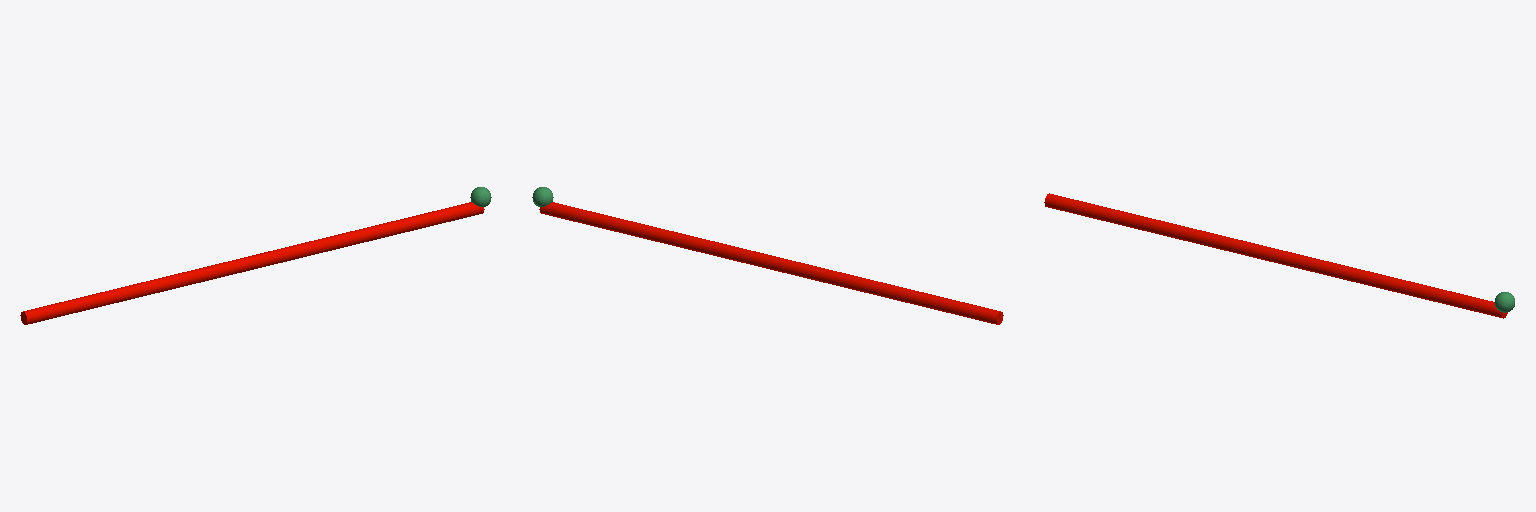
robot.urdf — Pendulum:
<?xml version="1.0"?>

<robot name="Pendulum">
  <material name="green">
 	  <color rgba=".3 .6 .4 1" />
  </material>
  <material name="red">
    <color rgba=".9 .1 0 1" />
  </material>
  <material name="blue">
    <color rgba="0 0 1 1" />
  </material>

  <link name="world" />
  <link name="base_part2">
    <inertial>
      <origin xyz="0 0 .015" rpy="0 0 0"/>
      <mass value="1"/>
      <inertia ixx="0" ixy="0" ixz="0" iyy="0" iyz="0" izz="0" />
    </inertial>
    <visual>
      <origin xyz="0 0 .015" />
      <geometry>
        <sphere radius=".015" />
      </geometry> 
      <material name="green" />
    </visual>
  </link>
  <joint name="base_weld" type="fixed">
    <parent link="world" />
    <child link="base_part2" />
    <origin xyz="0 0 0" />
  </joint>
  <link name="arm">
    <inertial> 
      <origin xyz="-.5 0 0" rpy="0 0 0" />
      <mass value="0.5" />
      <inertia ixx="0" ixy="0" ixz="0" iyy="0" iyz="0" izz="0"/> 
    </inertial>
    <visual>
      <origin xyz="-.375 0 0" rpy="0 1.5708 0" />
      <geometry>
         <cylinder length=".75" radius=".01" />
      </geometry>
      <material name="red" />
    </visual> 
  </link>
  <joint name="theta" type="continuous">
    <parent link="base_part2"/>
    <child link="arm" />
    <axis xyz="0 0 1" />
    <dynamics damping="0.1" />
  </joint>
</robot>

--- Facts derived from the render (not from the file) ---
Views: 3 orthographic renders of the robot side by side, from view 1: azimuth 30°, elevation 25°; view 2: azimuth 150°, elevation 25°; view 3: azimuth 330°, elevation 25°.
Robot: Pendulum — 3 links, 2 joints (1 continuous, 1 fixed); root link world; default pose: every joint at zero.
Visible links, largest first — view 1: arm; view 2: arm; view 3: arm.
Boxes of the visible links, x1=… form: arm: x1=20, y1=202, x2=484, y2=324; arm: x1=539, y1=202, x2=1003, y2=324; arm: x1=1044, y1=193, x2=1507, y2=318.
Size in the robot's own frame: 0.765 by 0.03 by 0.04 metres.
Geometry: primitives only (box / cylinder / sphere), no mesh files.
